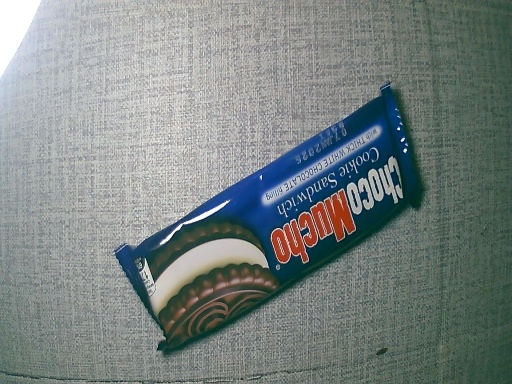plastic: (109, 86, 433, 359)
